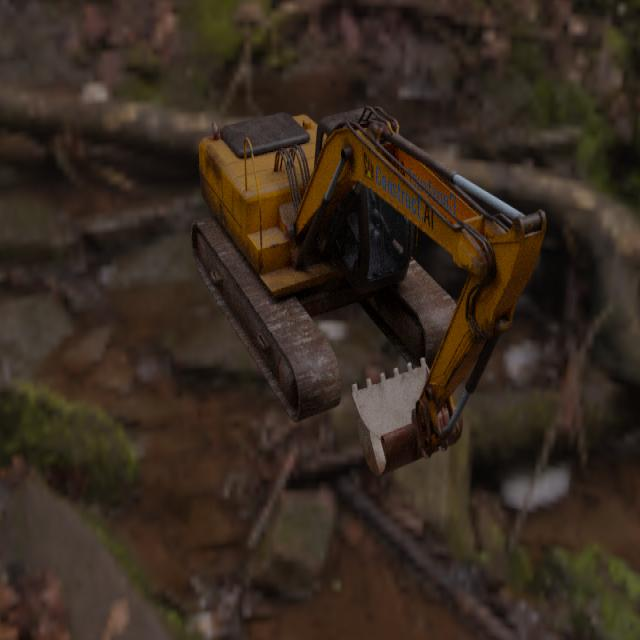excavator: (190, 105, 546, 476)
